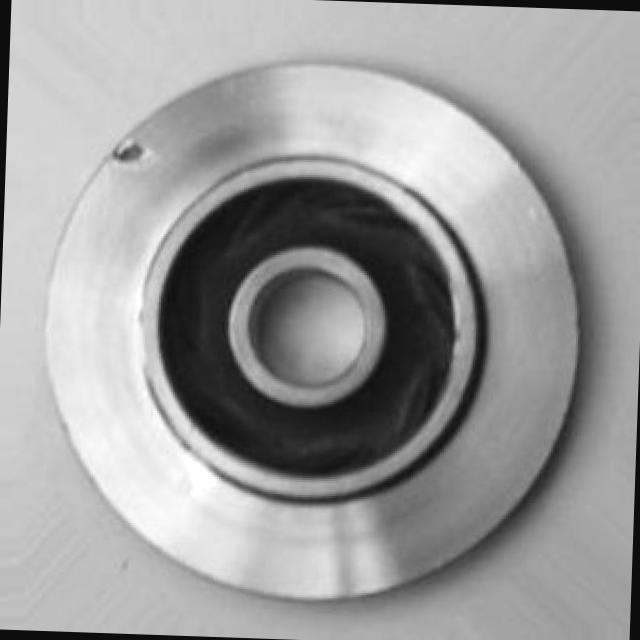Defect: (108, 135, 154, 166)
